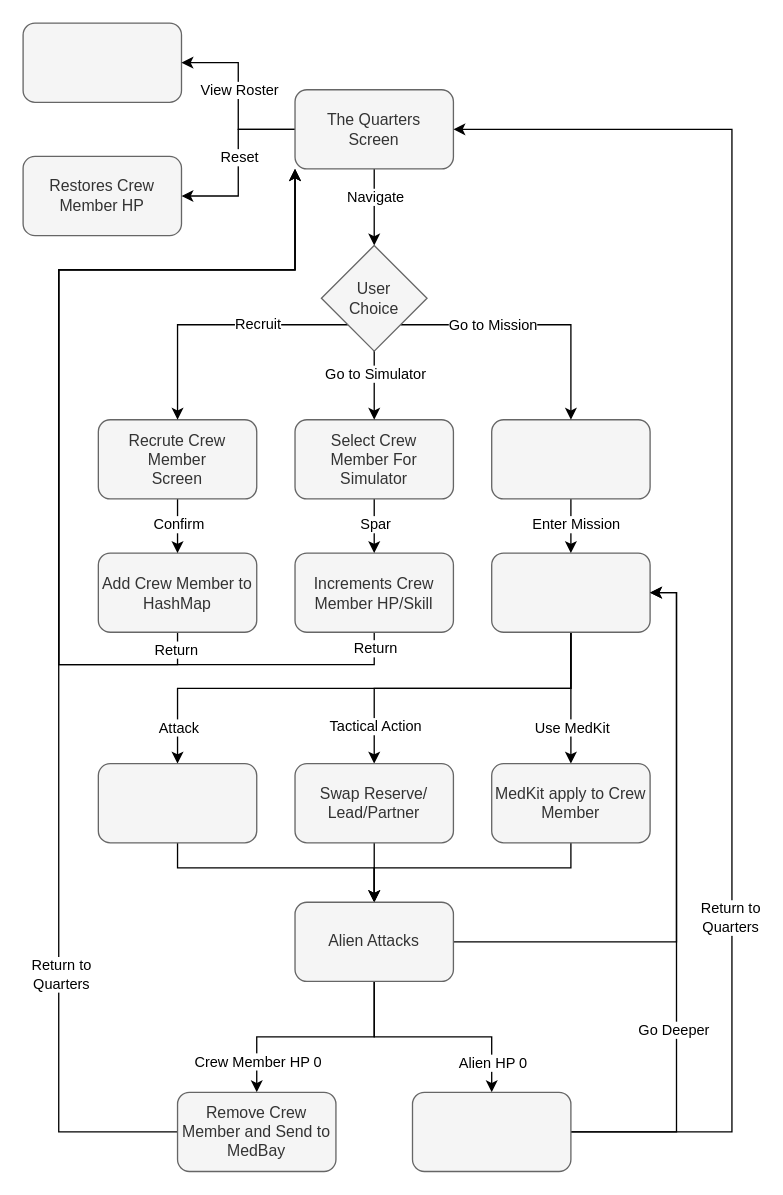
The diagram is 783 pixels wide and 1195 high, and some of its shapes have lost their labels. Here are the shapes that lost their labels. From the top down, the box of each, then its label:
(22, 22, 182, 102): Recycler Viewer
(490, 418, 650, 499): Select Lead, Partner, Reserve and Mission Type
(490, 552, 650, 632): The Mission Loop
(97, 762, 257, 843): Crew Member Attacks
(411, 1091, 571, 1172): Crew Member Gains XP
